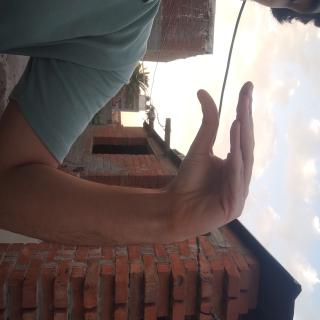JEEM: (59, 77, 192, 236)
